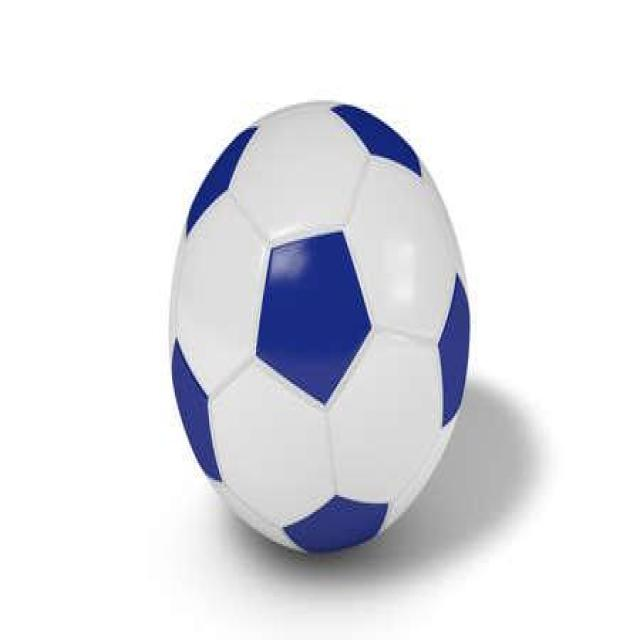Soccer Ball: (170, 100, 470, 555)
